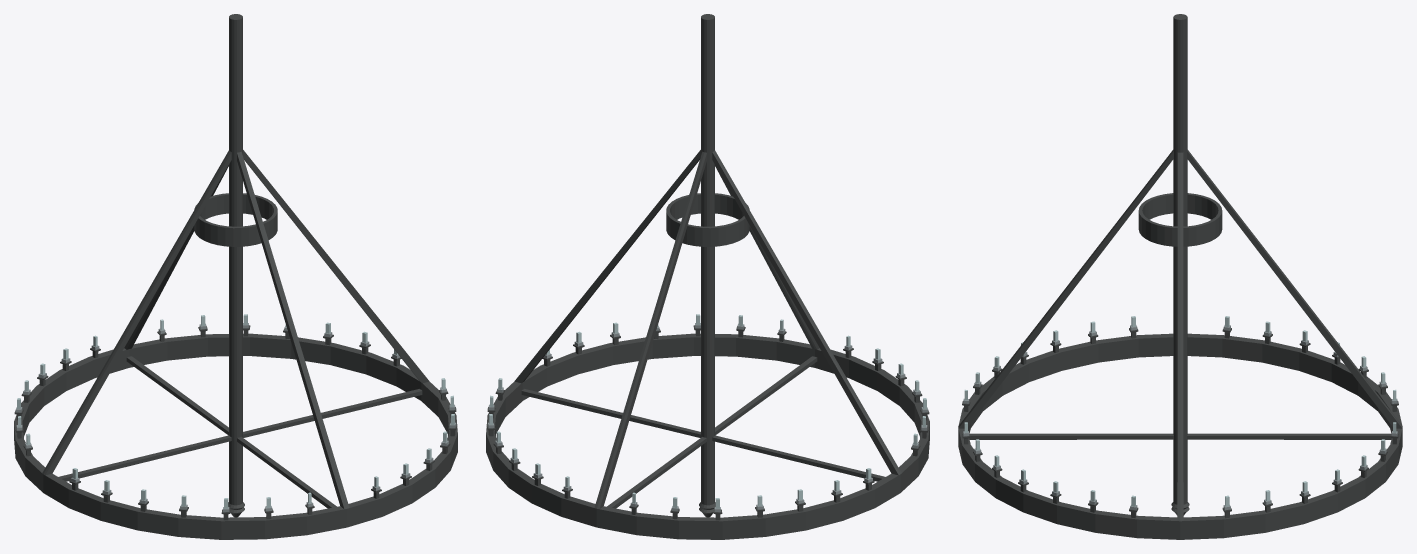
Rendered from Chandelier.glb.
The picture shows the model from 3 angles, left to right: view 1: azimuth 30°, elevation 25°; view 2: azimuth 150°, elevation 25°; view 3: azimuth 270°, elevation 25°; orthographic projection.
Visible parts, largest first — view 1: Chandelier.001; view 2: Chandelier.001; view 3: Chandelier.001.
Part boxes in pixels (x1,y1,x2,y2): Chandelier.001: [14, 14, 457, 539]; Chandelier.001: [486, 14, 929, 539]; Chandelier.001: [958, 14, 1402, 539].
Bounding box in the file's own units: 2.73 × 3.38 × 2.73.
1 material, 1 textured.
